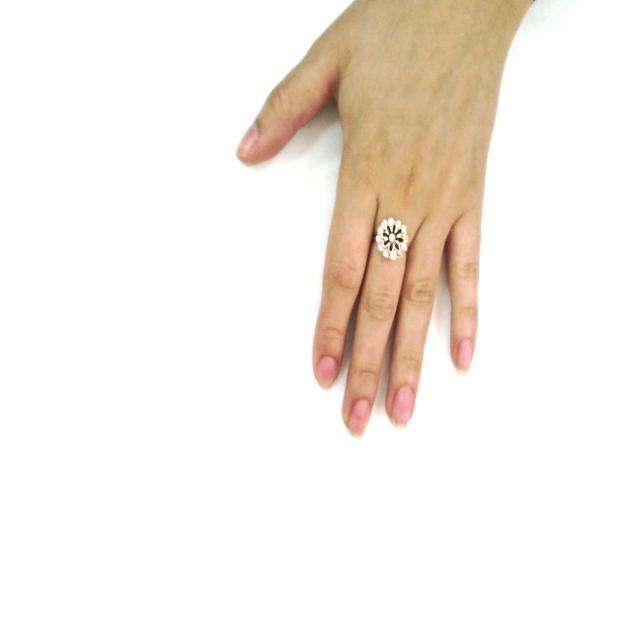Fingernail: (392, 386, 413, 427), (349, 400, 370, 436), (318, 357, 336, 387), (239, 126, 257, 152), (457, 340, 471, 373)
